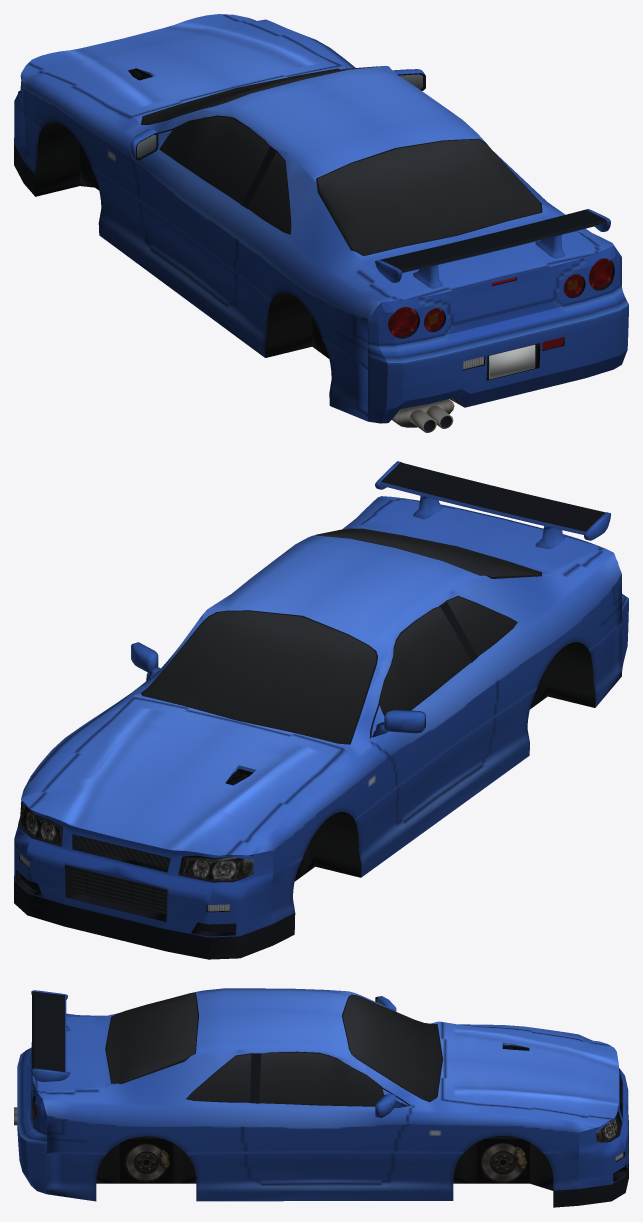
Rendered from gtr_99.obj.
The picture shows the model from 3 angles, top to bottom: view 1: azimuth 30°, elevation 25°; view 2: azimuth 150°, elevation 25°; view 3: azimuth 270°, elevation 25°; orthographic projection. The views are drawn at different scales.
Visible parts, largest first — view 1: gtr_99; view 2: gtr_99; view 3: gtr_99.
Boxes of the visible parts, x1,y1,x2,y2 form: gtr_99: [14, 14, 628, 432]; gtr_99: [14, 461, 628, 959]; gtr_99: [14, 988, 628, 1207].
Size of the model in its own units: 1.94 by 1.22 by 4.6.
